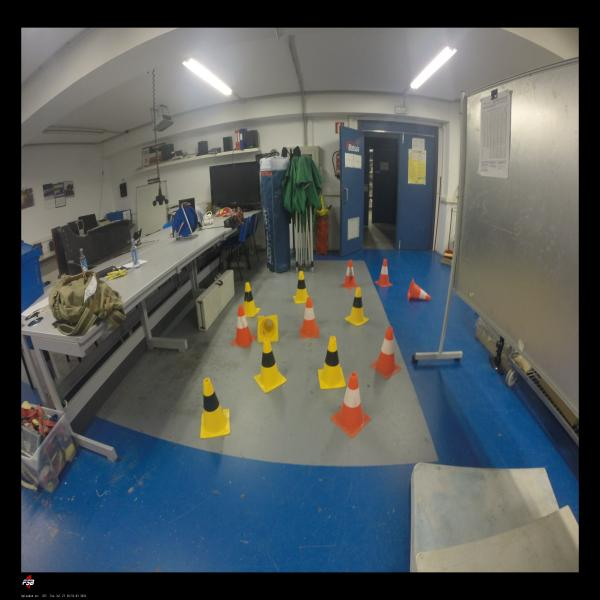orange_cone: (331, 373, 371, 437), (370, 327, 401, 378), (231, 305, 256, 348), (300, 297, 319, 338), (341, 260, 359, 289), (408, 278, 430, 301), (376, 259, 392, 287)
yellow_cone: (200, 378, 230, 438), (254, 338, 287, 392), (318, 336, 346, 389), (345, 287, 369, 326), (243, 282, 260, 317), (258, 315, 278, 343), (293, 272, 309, 304)
